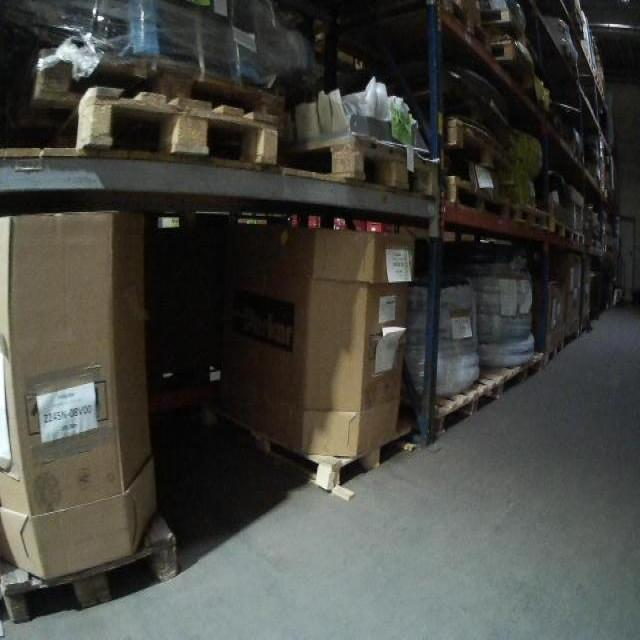pallet: (31, 43, 289, 134), (0, 513, 181, 628), (71, 83, 280, 165), (208, 411, 417, 493), (285, 124, 440, 198), (434, 369, 500, 436), (445, 115, 514, 179), (443, 174, 514, 220), (500, 351, 546, 401), (488, 41, 535, 89), (479, 8, 524, 38), (514, 201, 551, 230), (550, 218, 574, 240), (546, 339, 564, 365), (572, 229, 585, 247)
